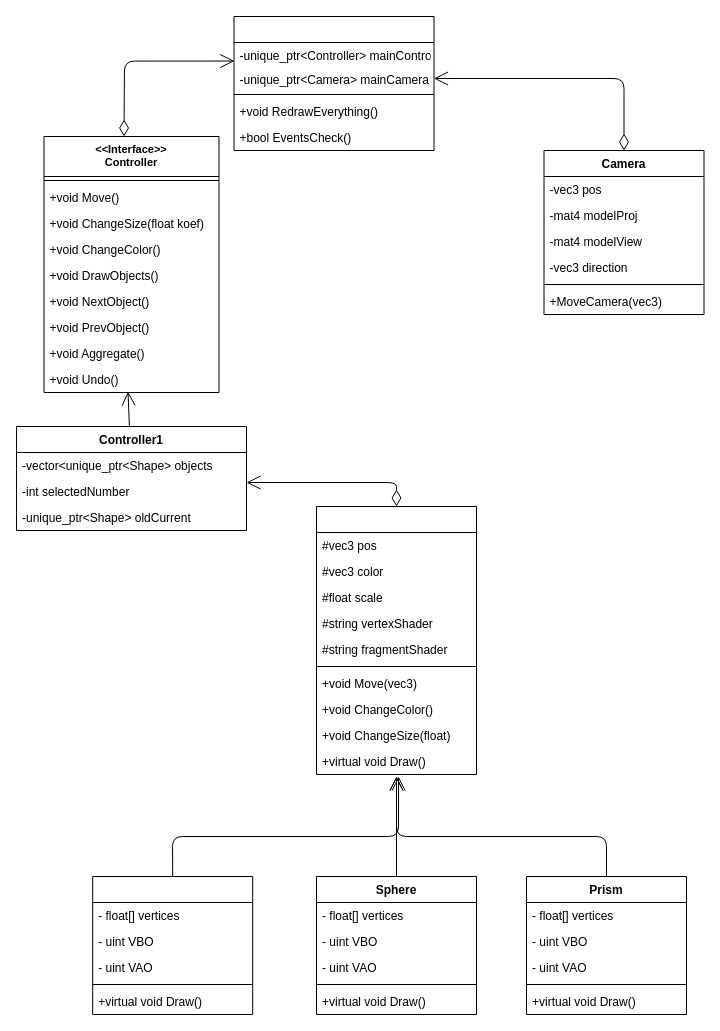
The diagram is 720 pixels wide and 1031 high, and some of its shapes have lost their labels. The shapes that lost their labels are listed below. From the top down, each one's box as (x1, y1, x2, y2) in pixels, then its label:
(233, 16, 434, 150): Scene
(316, 506, 476, 774): Shape
(92, 876, 253, 1014): Cube
